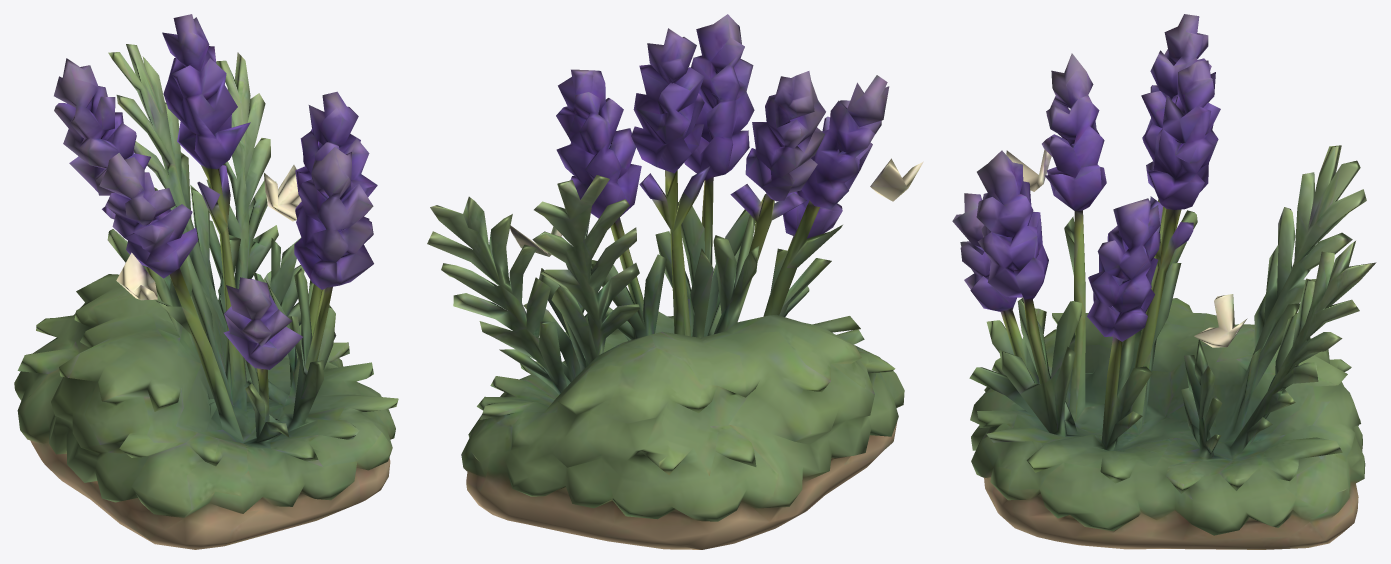
File: lavender.glb
3 views of the same model, side by side, from view 1: azimuth 30°, elevation 25°; view 2: azimuth 150°, elevation 25°; view 3: azimuth 270°, elevation 25° (orthographic). The views are drawn at different scales.
Parts seen in each view (by area): view 1: tripo_node_e3da69d7-0fd4-4d8c-bc9f-944685ddbc15; view 2: tripo_node_e3da69d7-0fd4-4d8c-bc9f-944685ddbc15; view 3: tripo_node_e3da69d7-0fd4-4d8c-bc9f-944685ddbc15.
Boxes of the visible parts, x1,y1,x2,y2 form: tripo_node_e3da69d7-0fd4-4d8c-bc9f-944685ddbc15: [14, 14, 398, 549]; tripo_node_e3da69d7-0fd4-4d8c-bc9f-944685ddbc15: [427, 14, 923, 549]; tripo_node_e3da69d7-0fd4-4d8c-bc9f-944685ddbc15: [952, 14, 1376, 549].
Size of the model in its own units: 0.7377 by 1 by 0.8942.
Materials: 1 (1 with a texture image).
